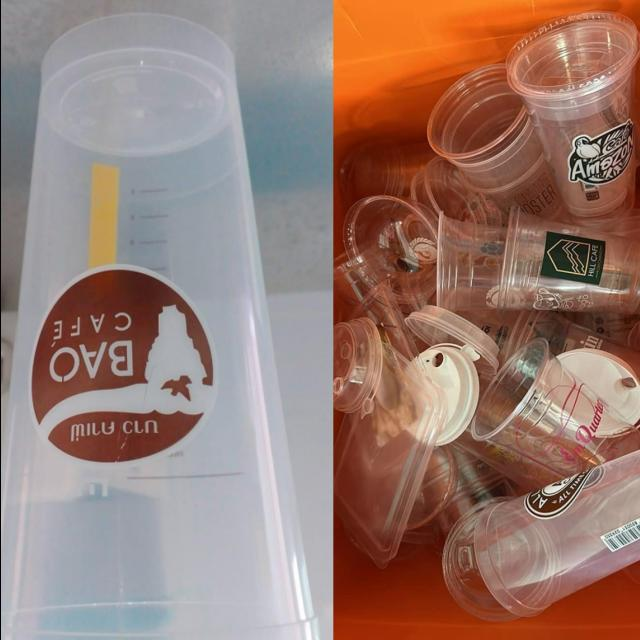plastik: (0, 13, 321, 640), (441, 450, 640, 622), (455, 339, 640, 490), (506, 12, 640, 220), (334, 343, 444, 567), (498, 209, 640, 314), (343, 195, 437, 311), (436, 213, 506, 311), (416, 343, 478, 445), (332, 318, 381, 413)
